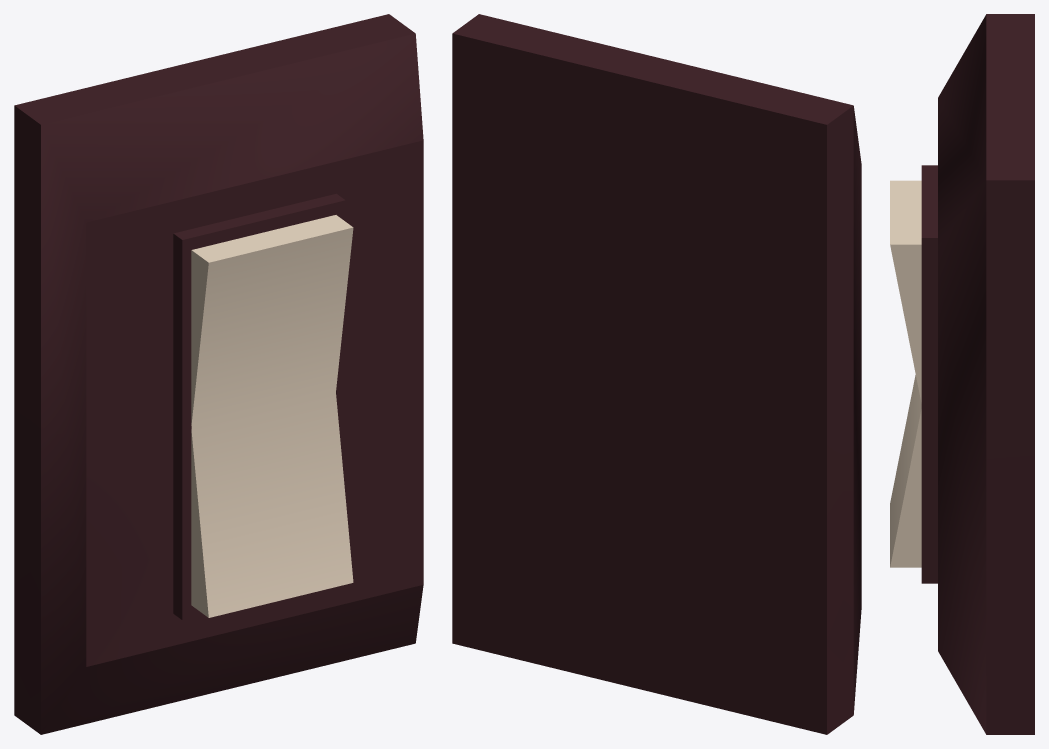
Rendered from lightswtich.fbx.
The picture shows the model from 3 angles, left to right: view 1: azimuth 30°, elevation 25°; view 2: azimuth 150°, elevation 25°; view 3: azimuth 270°, elevation 25°; orthographic projection. The views are drawn at different scales.
Parts seen in each view (by area): view 1: pCube188; view 2: pCube188; view 3: pCube188.
Boxes of the visible parts, <box> form: pCube188: <box>14,14,423,734</box>; pCube188: <box>452,14,861,734</box>; pCube188: <box>890,14,1034,734</box>.
Bounding box in the file's own units: 1.52 × 2.36 × 0.5577.
1 material, 1 textured.
